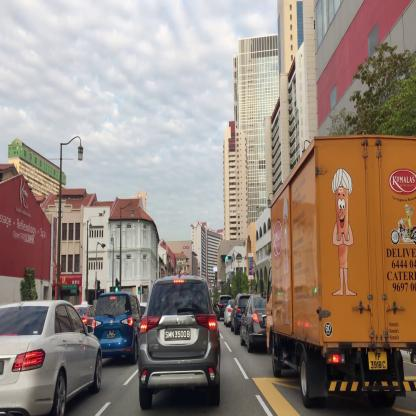green_traffic_light: (115, 279, 118, 291), (226, 256, 231, 259)
